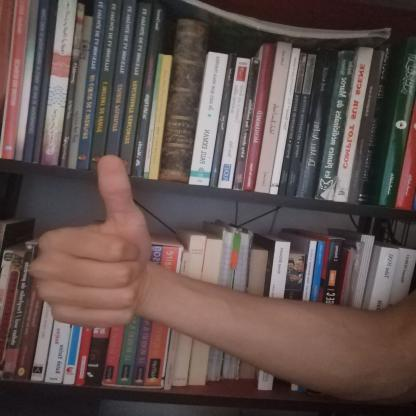ALIF: (14, 142, 159, 340)
